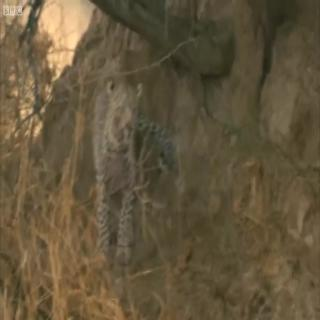Leopard: (41, 46, 206, 282)
